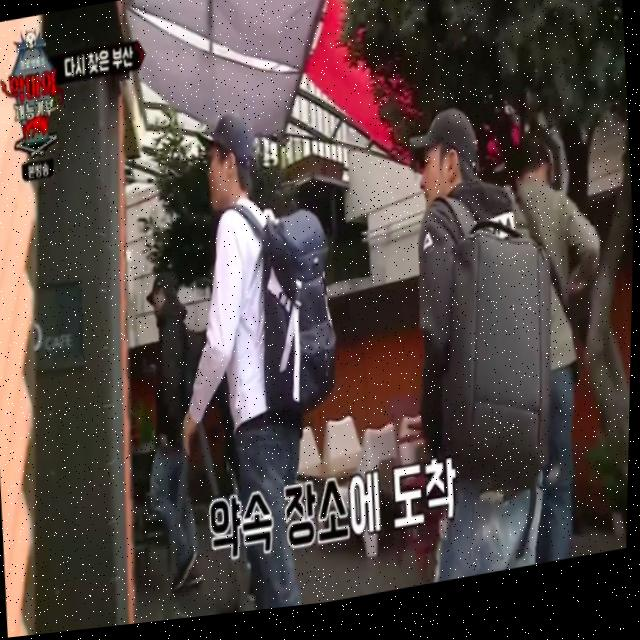backpack: (432, 200, 569, 529), (240, 196, 347, 440)
